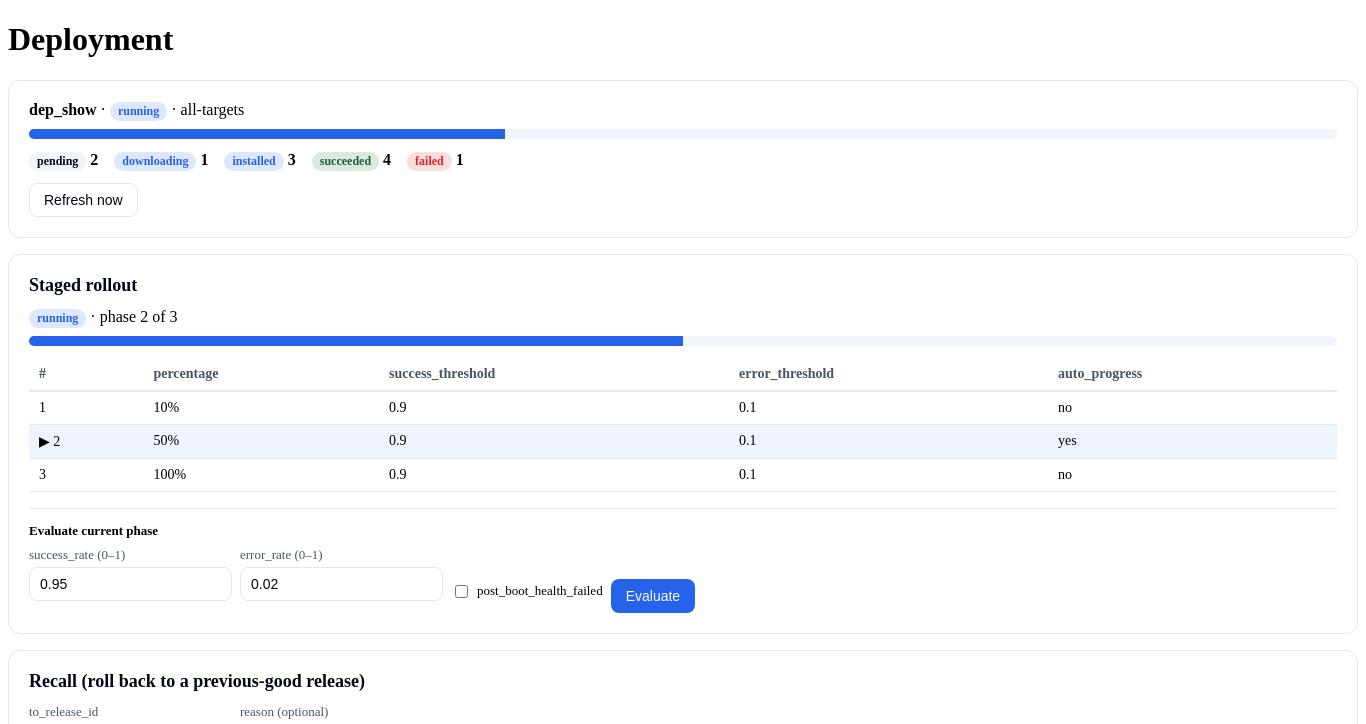
Test: DeploymentDetail — progress + rollout + recall › evaluates the current phase and renders the engine decision
The width and height of the screenshot is (1366, 724).
expect the text "▶ 2" is shown: met, box 29,424 -> 143,458
expect the text "running · phase 2 of 3" is shown: met, box 29,308 -> 178,328
Click the button "Evaluate" at x=653, y=596, box 611,579 -> 695,613
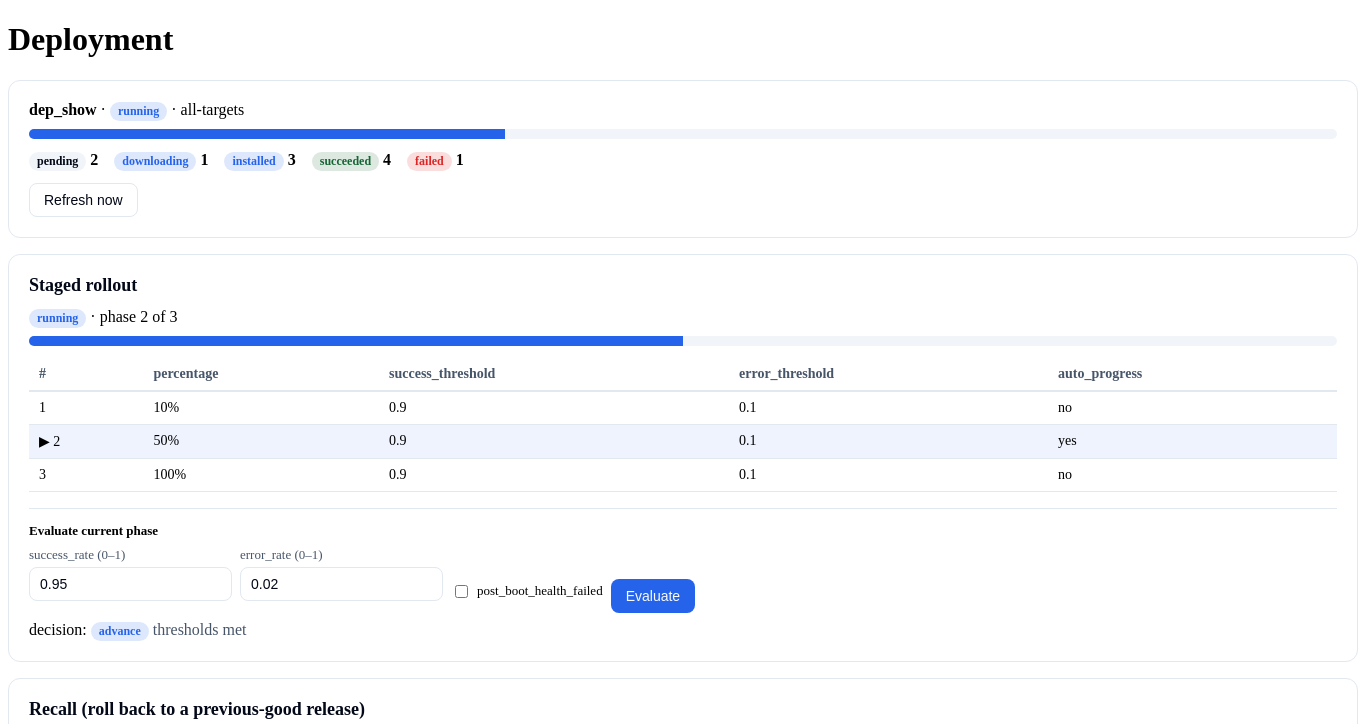
expect the text "advance" is shown: met, box 91,622 -> 149,641
expect the text "thresholds met" is shown: met, box 153,621 -> 247,638
